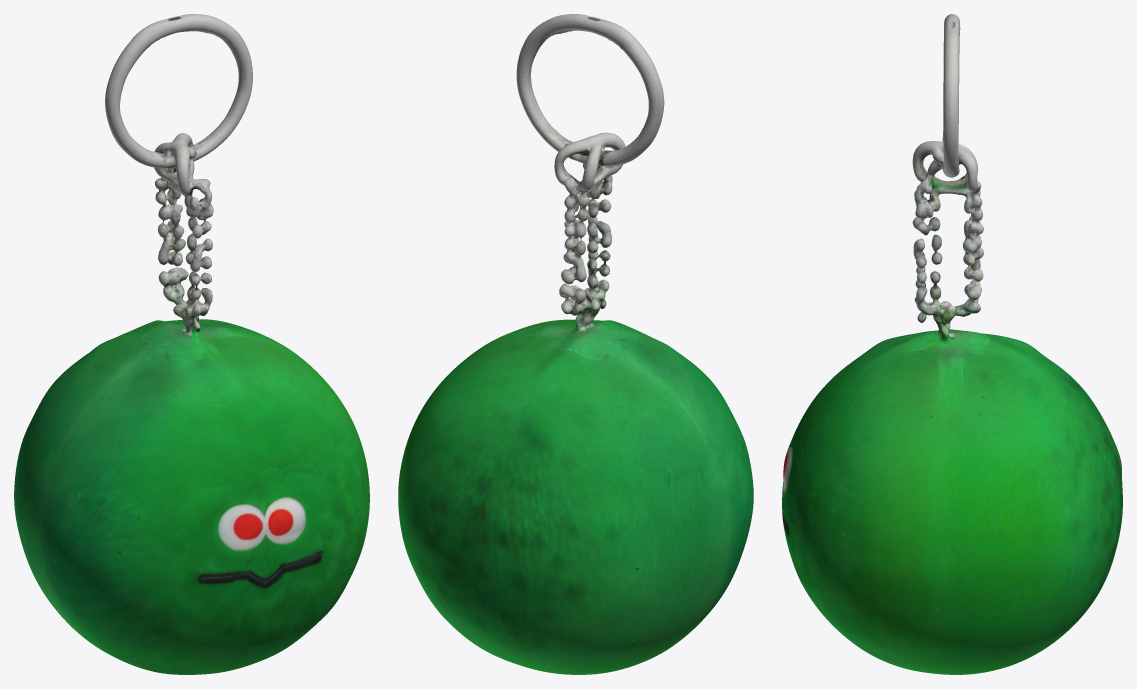
The model's file is hanging-ball-green.glb.
3 renders of one model, left to right at view 1: azimuth 30°, elevation 25°; view 2: azimuth 150°, elevation 25°; view 3: azimuth 270°, elevation 25°, orthographic. The views are drawn at different scales.
Size of the model in its own units: 0.9929 by 2 by 0.988.
1 material, 1 textured.
